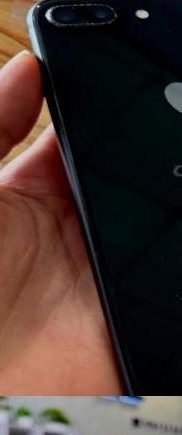scratch: (41, 0, 127, 30), (142, 277, 182, 315), (22, 0, 56, 29), (111, 373, 140, 395), (156, 18, 182, 40)
